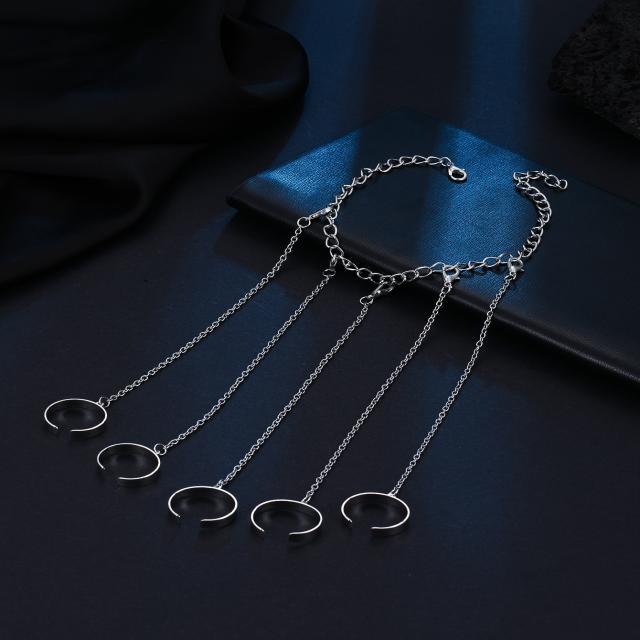bracelet: (263, 130, 614, 322)
